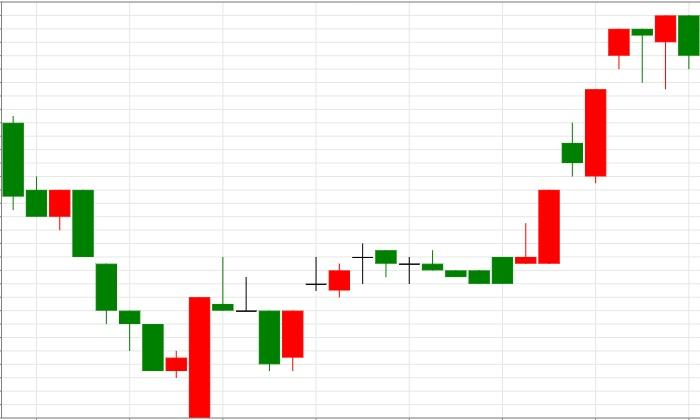hanging_man_fall: (515, 16, 676, 265)
